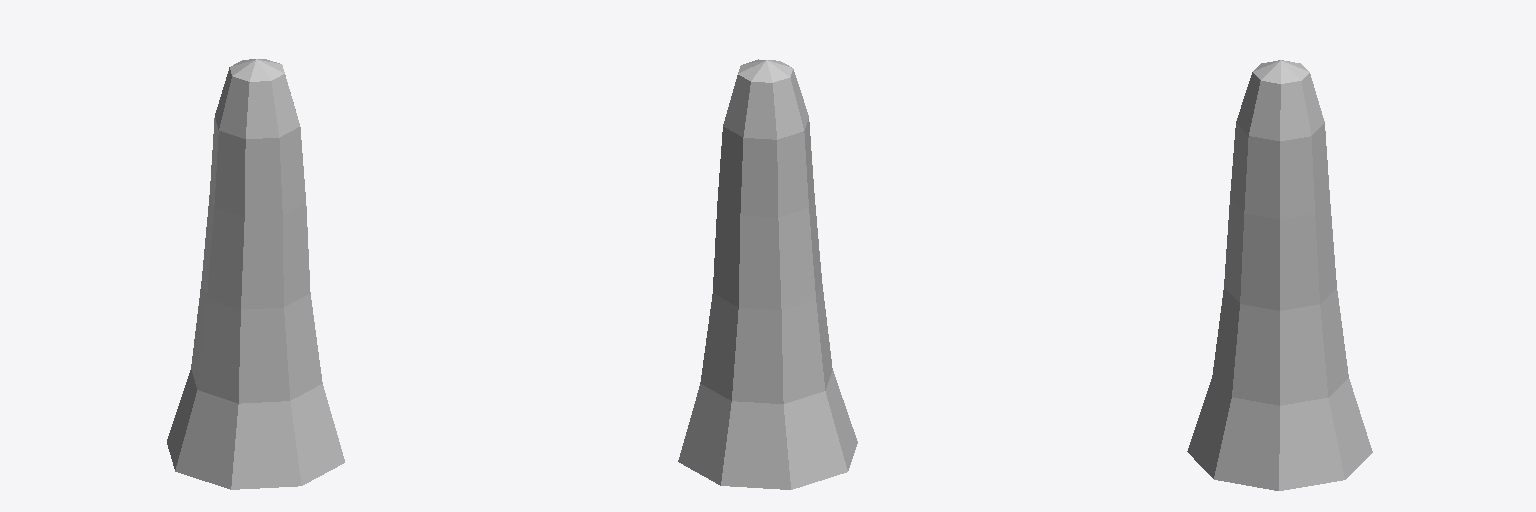
The model's file is smallpalm_trunk.obj.
3 views of the same model, side by side, from view 1: azimuth 30°, elevation 25°; view 2: azimuth 150°, elevation 25°; view 3: azimuth 270°, elevation 25° (orthographic).
Visible parts, largest first — view 1: Plane_Plane.014; view 2: Plane_Plane.014; view 3: Plane_Plane.014.
Boxes of the visible parts, box(x1,y1,x2,y2) form: Plane_Plane.014: box(167, 59, 344, 489); Plane_Plane.014: box(678, 59, 857, 489); Plane_Plane.014: box(1187, 60, 1372, 490).
Size of the model in its own units: 1.38 by 3.22 by 1.38.